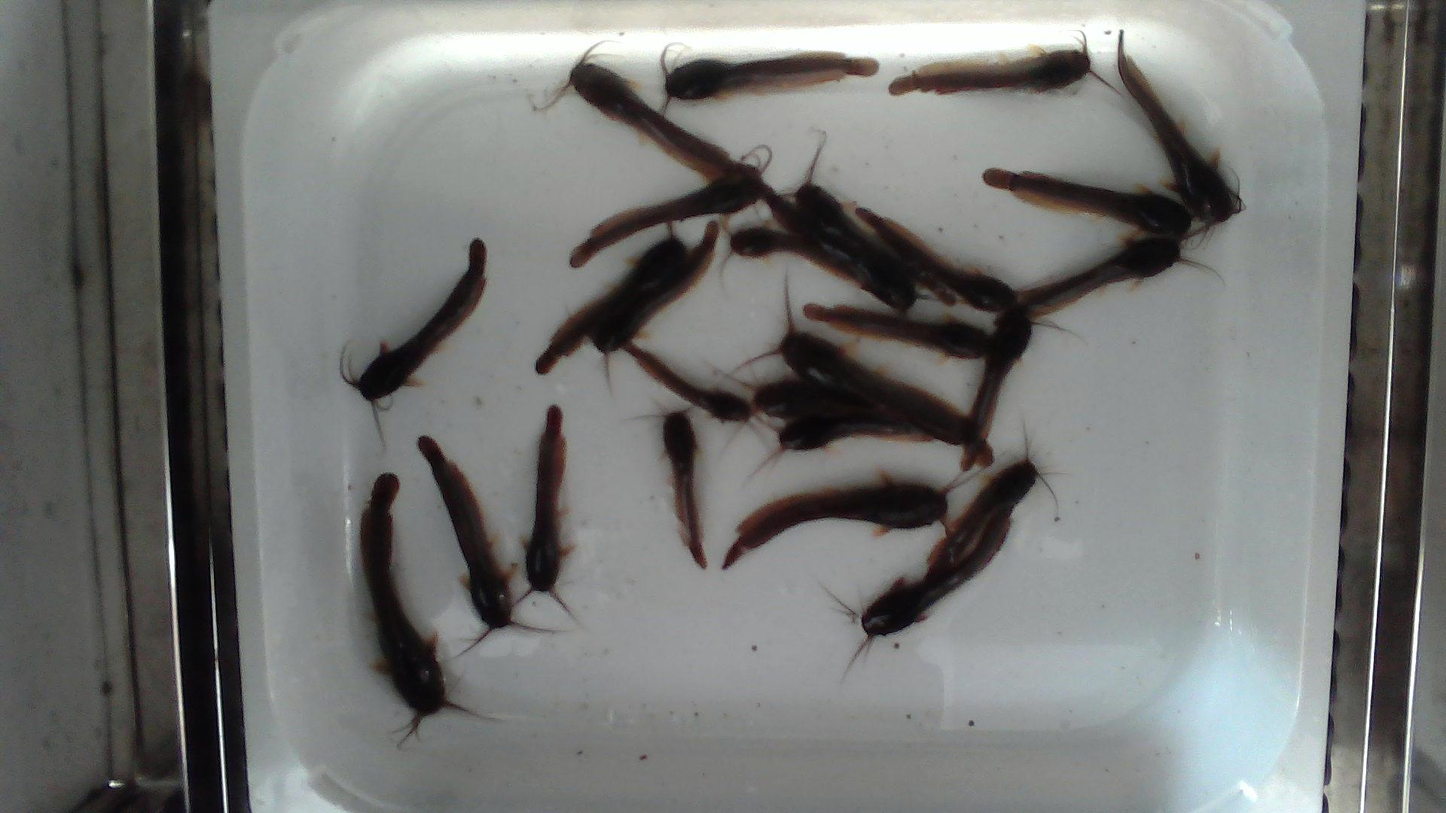lele: (733, 282, 993, 468), (361, 474, 474, 727), (777, 157, 958, 309), (834, 509, 1011, 659), (571, 59, 761, 190), (346, 239, 486, 400), (1118, 50, 1240, 224), (535, 237, 686, 374), (592, 221, 719, 383), (757, 181, 916, 310), (571, 163, 761, 268), (725, 480, 947, 565), (418, 437, 511, 627), (857, 208, 1020, 313), (1015, 235, 1177, 322), (924, 457, 1037, 580), (754, 380, 961, 445), (984, 170, 1192, 233), (962, 307, 1033, 471), (664, 53, 879, 101), (622, 342, 751, 420), (804, 306, 992, 358), (889, 50, 1090, 94), (731, 228, 864, 286), (526, 406, 563, 591), (663, 412, 706, 568), (781, 416, 933, 450)
